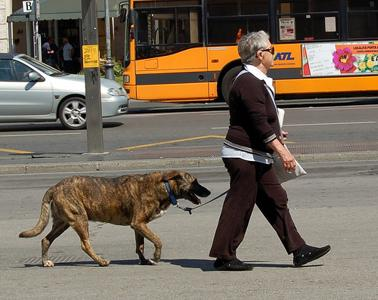person: (212, 28, 331, 272)
